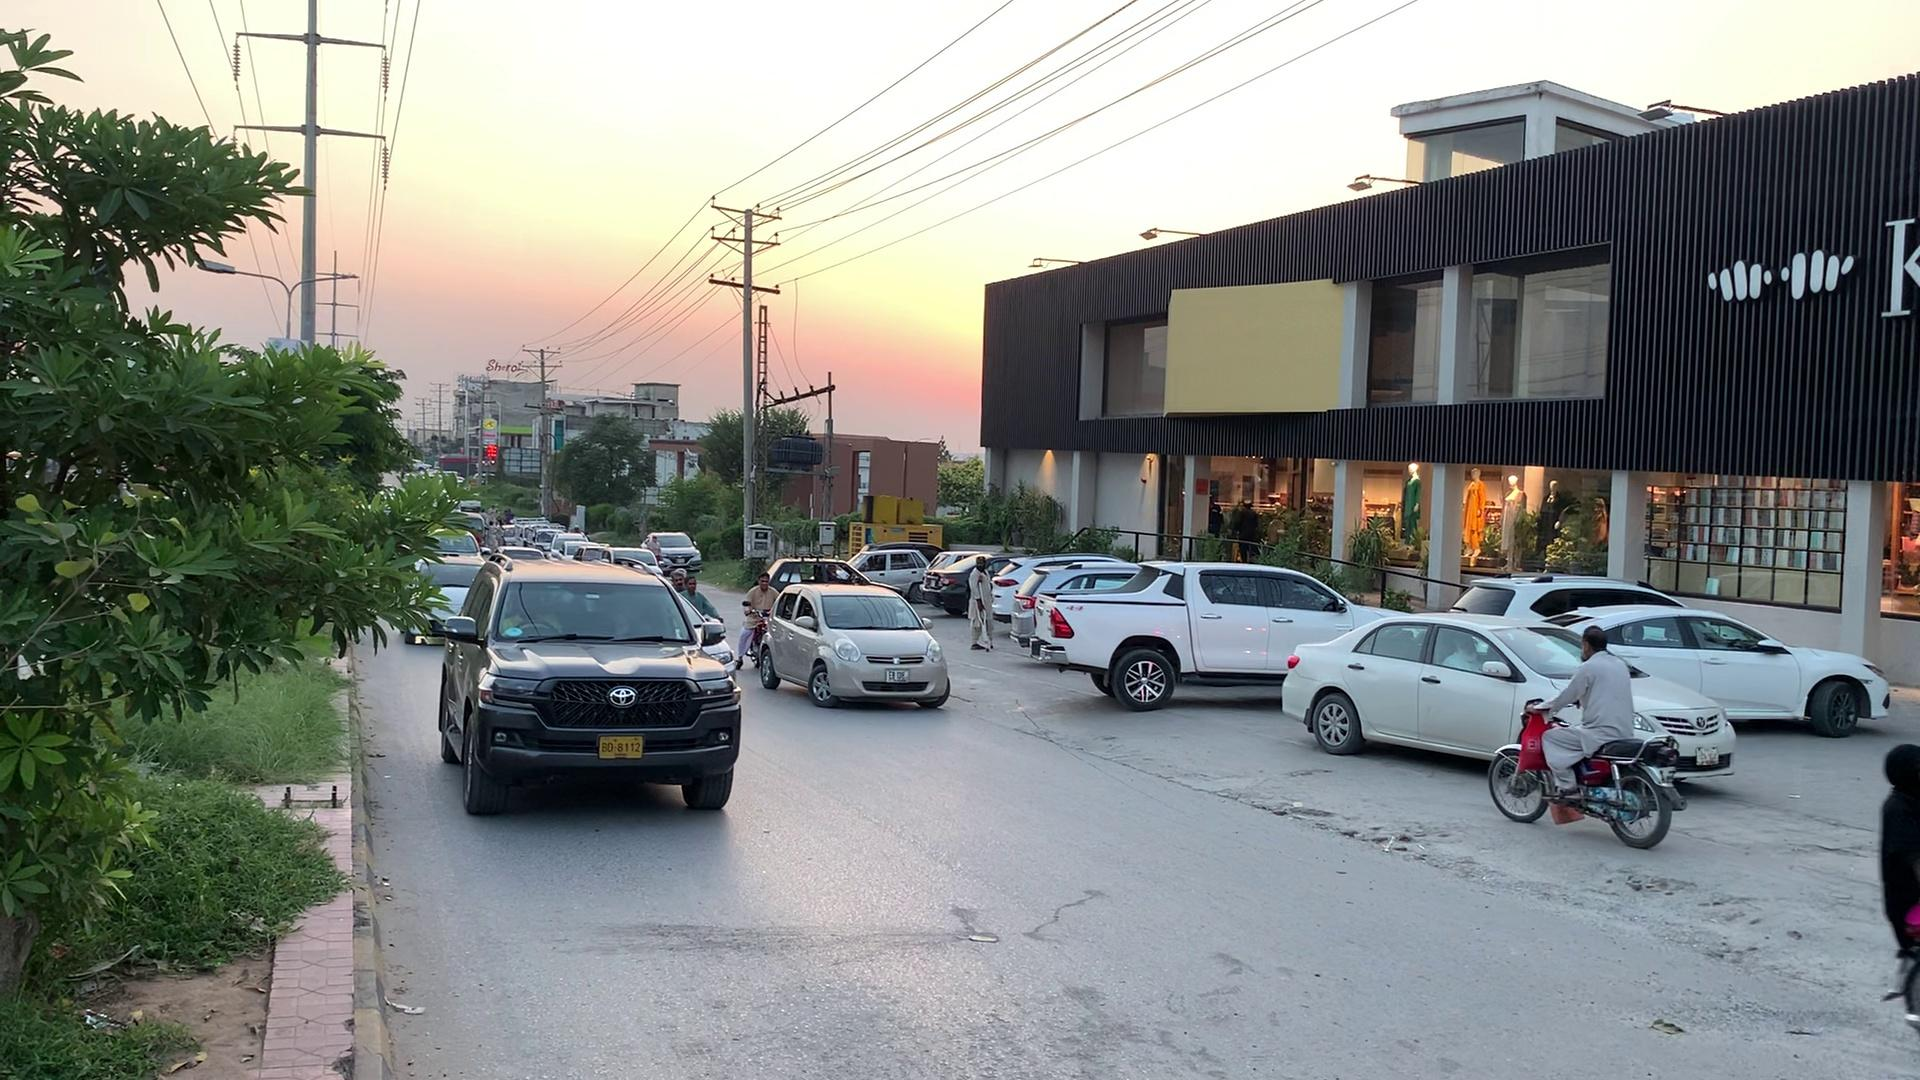windshield: (491, 576, 698, 650)
